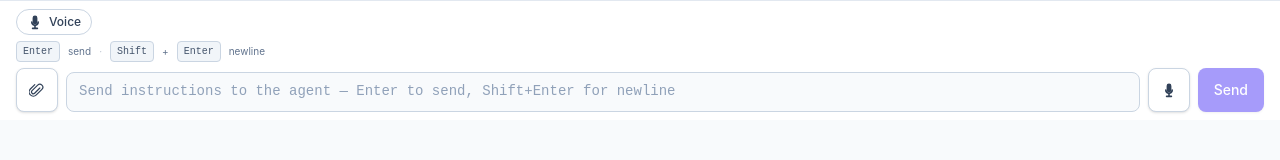
Test case: MessageInput › shows char count when text is entered
The image size is (1280, 160).
Replace the text in the text box with test id "message-textarea" with "hello": coordinates (603, 92) left=66, top=72, right=1140, bottom=112
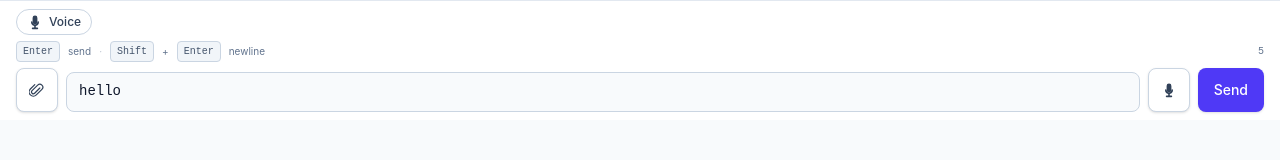
Now the text with test id "composer-char-count" reads "5", box left=1258, top=46, right=1264, bottom=57
